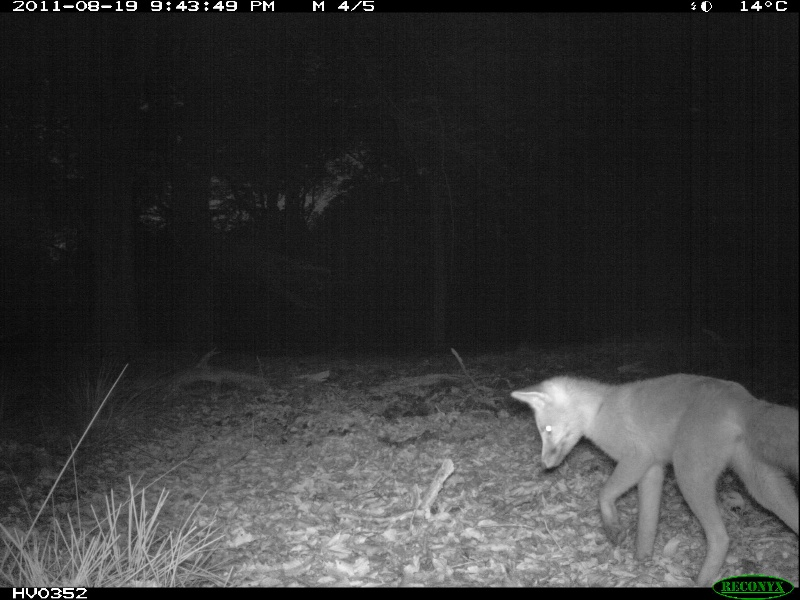fox: (501, 367, 800, 584)
